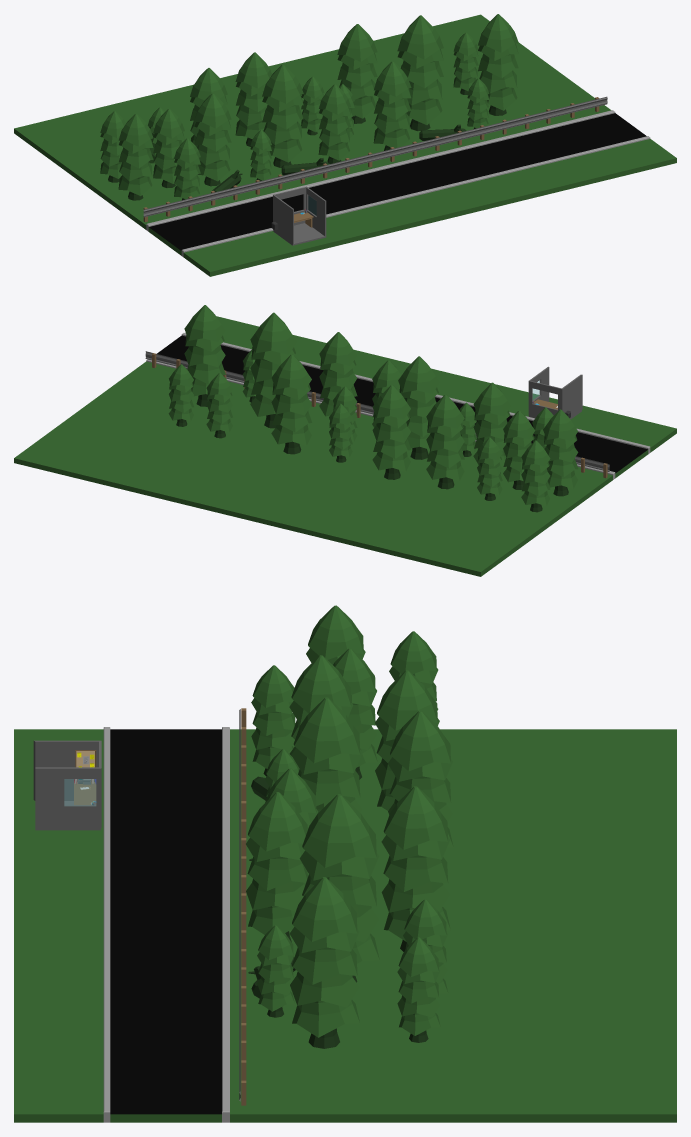
File: escenario.glb
The picture shows the model from 3 angles, top to bottom: view 1: azimuth 30°, elevation 25°; view 2: azimuth 150°, elevation 25°; view 3: azimuth 270°, elevation 25°; orthographic projection. The views are drawn at different scales.
Parts seen in each view (by area): view 1: plano calle, arboles, rail, Cube, Cylinder; view 2: plano calle, arboles, Cube, rail; view 3: plano calle, arboles, Cube, rail.
Boxes of the visible parts, x1=… form: plano calle: x1=14, y1=14, x2=676, y2=276; arboles: x1=100, y1=14, x2=518, y2=200; rail: x1=143, y1=96, x2=607, y2=222; Cube: x1=271, y1=186, x2=326, y2=245; Cylinder: x1=212, y1=124, x2=466, y2=191; plano calle: x1=14, y1=316, x2=676, y2=576; arboles: x1=168, y1=305, x2=578, y2=512; Cube: x1=528, y1=366, x2=582, y2=419; rail: x1=145, y1=351, x2=609, y2=478; plano calle: x1=14, y1=727, x2=676, y2=1122; arboles: x1=246, y1=605, x2=453, y2=1048; Cube: x1=33, y1=740, x2=101, y2=830; rail: x1=239, y1=708, x2=246, y2=1105.
Size of the model in its own units: 95.78 by 22.69 by 69.71.
Materials: 26 (2 with a texture image).
